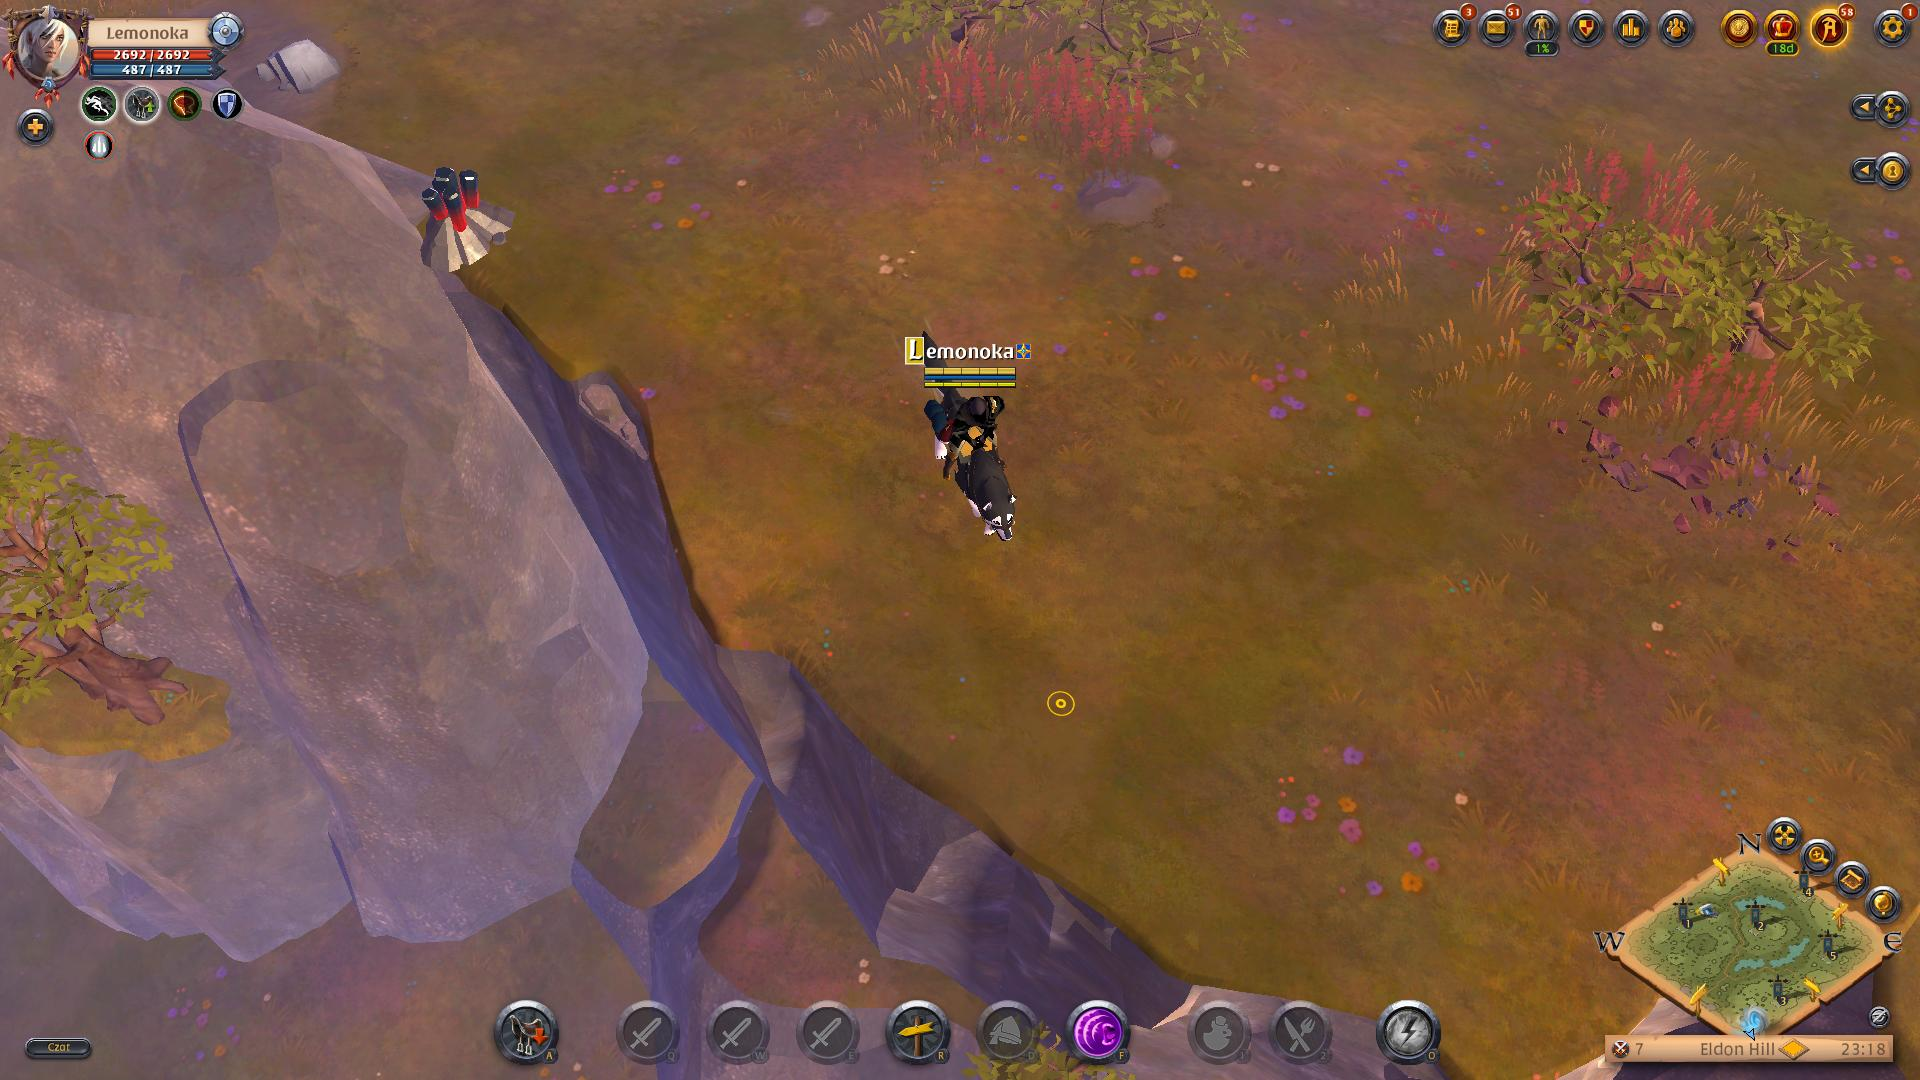ore tier 5: (410, 162, 516, 276)
rock tier 1: (255, 32, 340, 100)
